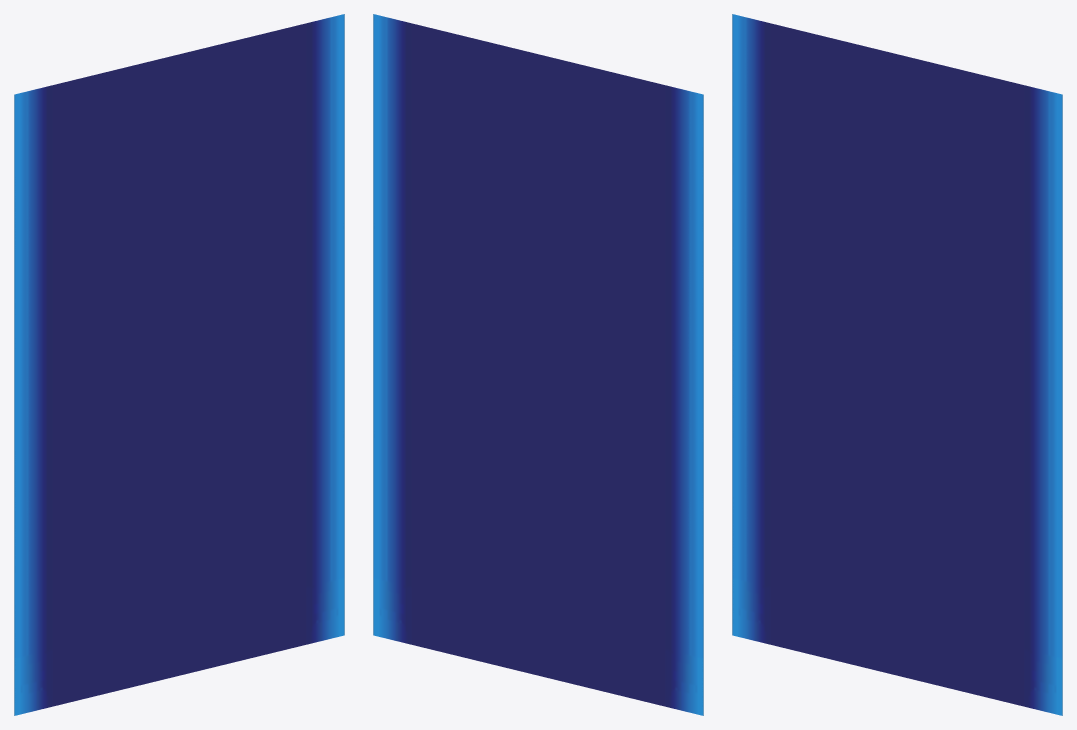
The model's file is pb_forcefield_cy_small.glb.
3 views of the same model, side by side, from view 1: azimuth 30°, elevation 25°; view 2: azimuth 150°, elevation 25°; view 3: azimuth 330°, elevation 25° (orthographic).
Parts seen in each view (by area): view 1: pb_forcefield_cy_small_0; view 2: pb_forcefield_cy_small_0; view 3: pb_forcefield_cy_small_0.
Part boxes in pixels (x1,y1,x2,y2): pb_forcefield_cy_small_0: (14,14,344,715); pb_forcefield_cy_small_0: (373,14,703,715); pb_forcefield_cy_small_0: (732,14,1062,715).
Bounding box in the file's own units: 329 × 592 × 0.000108.
1 material, 1 textured.
